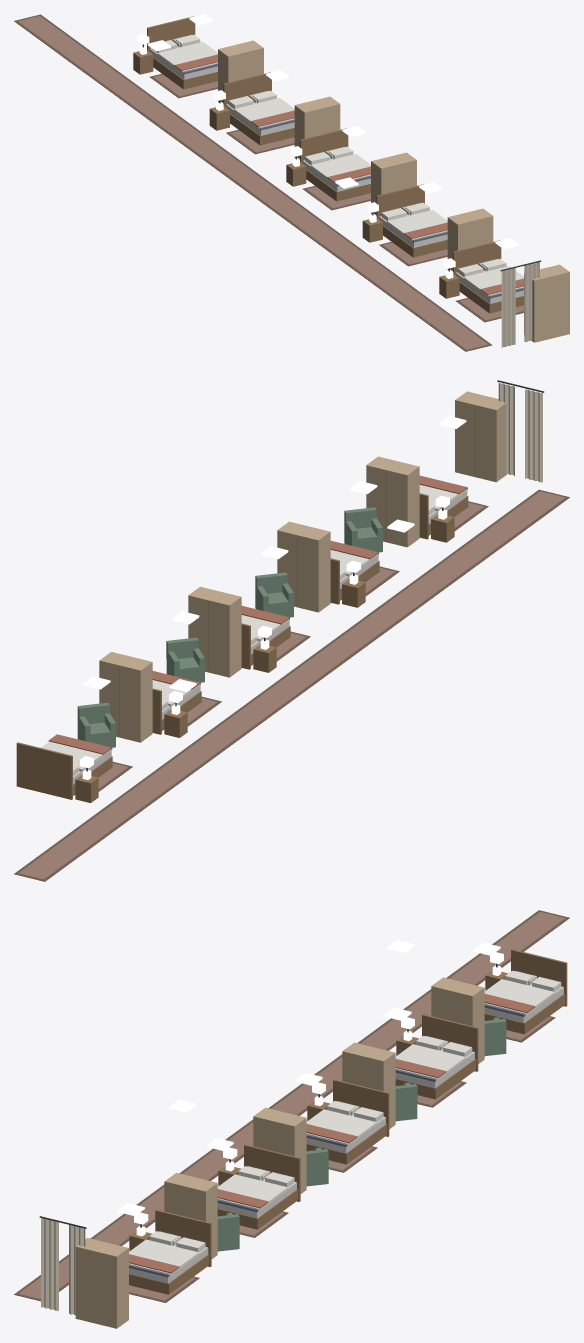
File: fine-s2.glb
3 renders of one model, top to bottom at view 1: azimuth 30°, elevation 25°; view 2: azimuth 150°, elevation 25°; view 3: azimuth 330°, elevation 25°, orthographic. The views are drawn at different scales.
Visible parts, largest first — view 1: soft-s2, dresser.009, bed-frame.006, bed-frame.008, bed-frame.005, bed-frame.007, bed-frame.009, dresser.008, dresser.006, dresser.007, dresser.005, nightstand.009 (+4 smaller); view 2: soft-s2, dresser.009, dresser.007, dresser.006, dresser.005, dresser.008, bed-frame.005, lounge-chair.006, lounge-chair.005, lounge-chair.007, lounge-chair.004, bed-frame.007 (+8 smaller); view 3: soft-s2, dresser.009, bed-frame.009, bed-frame.005, bed-frame.008, bed-frame.006, bed-frame.007, dresser.005, dresser.006, dresser.008, dresser.007, lounge-chair.007 (+3 smaller).
Boxes of the visible parts, x1,y1,x2,y2 form: soft-s2: (14,14,541,351); dresser.009: (524,264,569,342); bed-frame.006: (223,72,294,145); bed-frame.008: (376,184,447,257); bed-frame.005: (147,16,217,89); bed-frame.007: (300,128,370,201); bed-frame.009: (453,240,523,313); dresser.008: (447,208,493,271); dresser.006: (294,96,340,159); dresser.007: (371,152,416,214); dresser.005: (218,40,263,102); nightstand.009: (439,269,459,298); soft-s2: (14,380,569,881); dresser.009: (455,391,507,482); dresser.007: (277,521,330,612); dresser.006: (188,586,241,677); dresser.005: (99,652,152,742); dresser.008: (366,456,419,547); bed-frame.005: (16,742,112,799); lounge-chair.006: (255,572,293,617); lounge-chair.005: (166,637,204,682); lounge-chair.007: (344,507,382,552); lounge-chair.004: (77,702,115,747); bed-frame.007: (241,617,290,669); soft-s2: (14,910,569,1315); dresser.009: (75,1238,128,1328); bed-frame.009: (129,1209,211,1294); bed-frame.005: (484,949,567,1034); bed-frame.008: (217,1144,300,1229); bed-frame.006: (395,1014,478,1099); bed-frame.007: (306,1079,389,1164); dresser.005: (431,977,484,1063); dresser.006: (342,1042,395,1128); dresser.008: (164,1173,217,1258); dresser.007: (253,1107,306,1193); lounge-chair.007: (217,1212,239,1251).
Size of the model in its own units: 3.55 by 2.56 by 26.82.
